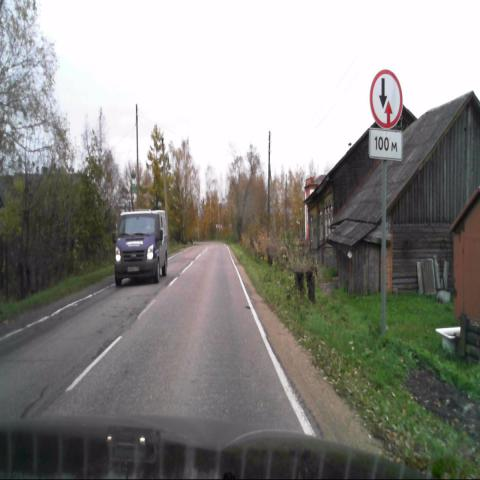2_6: (369, 70, 403, 129)
8_1_1: (369, 131, 401, 162)
